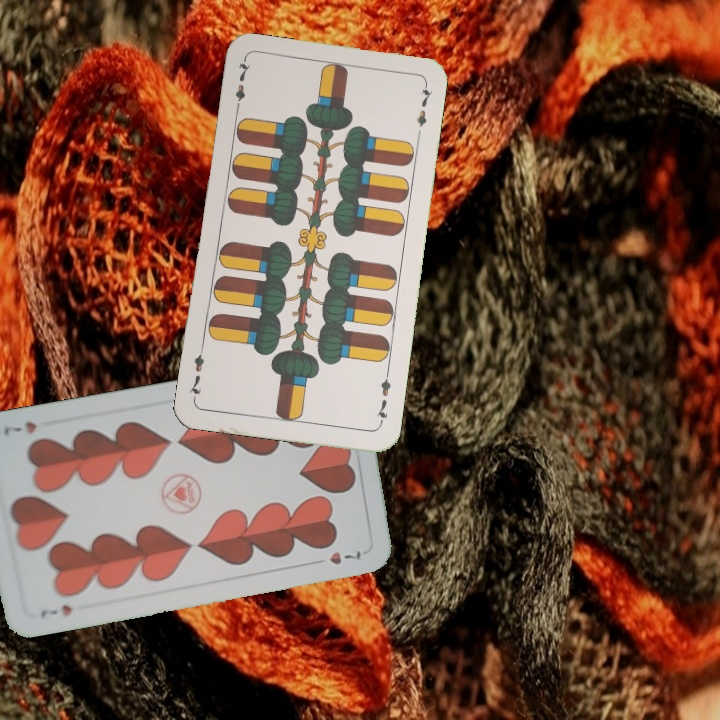E7: (372, 369, 394, 428), (231, 57, 253, 116)
H7: (36, 600, 75, 620)
